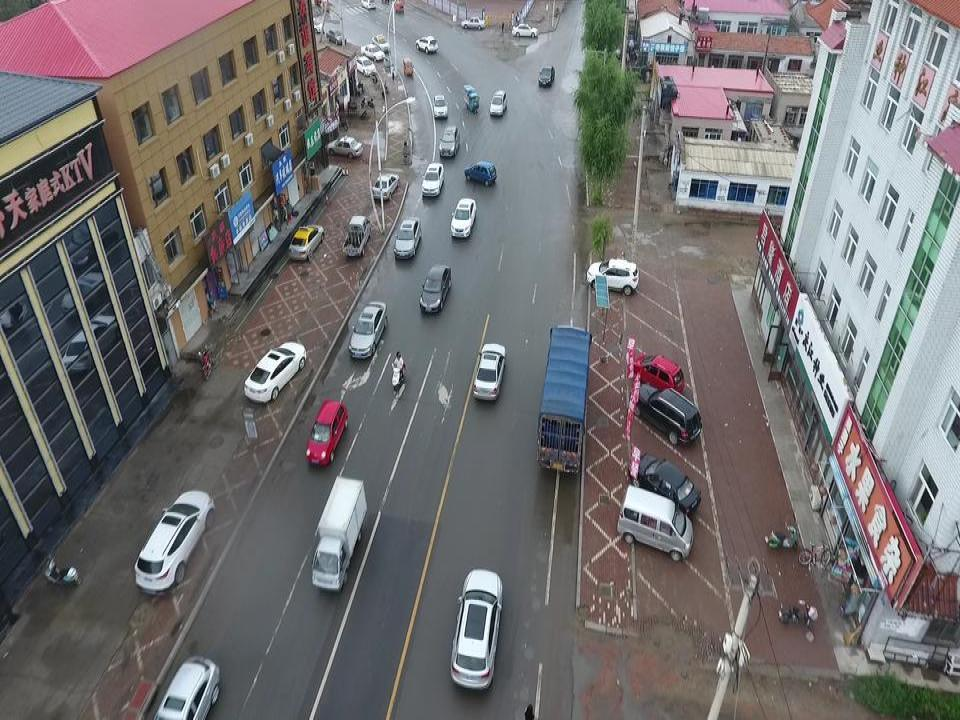car: (131, 489, 220, 600), (449, 563, 505, 700), (152, 653, 235, 720), (626, 374, 701, 446), (240, 339, 309, 408), (633, 453, 706, 511), (629, 345, 693, 407), (305, 397, 353, 470), (581, 252, 645, 299), (348, 298, 389, 367), (472, 341, 506, 403), (417, 263, 451, 313), (290, 220, 324, 263), (392, 215, 424, 260), (369, 166, 407, 202), (448, 197, 478, 239), (434, 120, 461, 163), (420, 157, 446, 199), (326, 136, 364, 160), (462, 159, 498, 184), (509, 22, 541, 42), (414, 33, 442, 55), (488, 88, 508, 117), (462, 12, 489, 33), (537, 63, 557, 89), (356, 55, 379, 77), (371, 31, 392, 52), (361, 43, 384, 60), (361, 0, 378, 15)
truck: (535, 326, 592, 474), (310, 474, 368, 591), (339, 214, 371, 258)
van: (615, 479, 697, 564)
